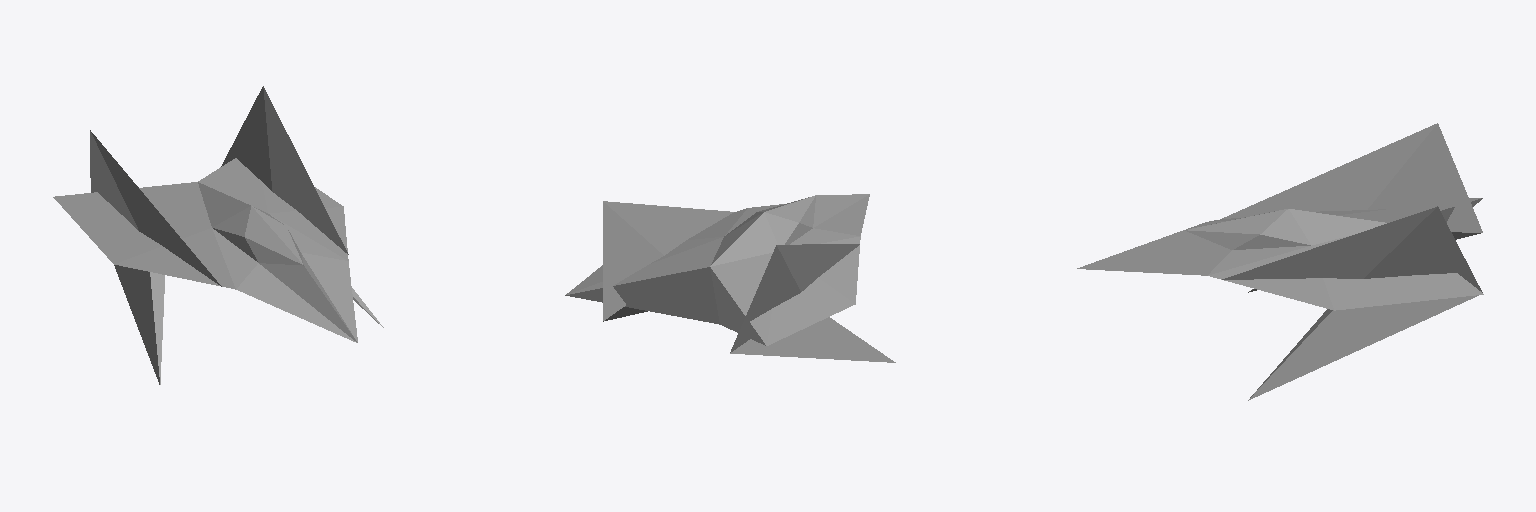
The model's file is Catspaw.obj.
3 renders of one model, left to right at view 1: azimuth 30°, elevation 25°; view 2: azimuth 150°, elevation 25°; view 3: azimuth 270°, elevation 25°, orthographic.
Visible parts, largest first — view 1: ShapeIndexedFaceSet.082; view 2: ShapeIndexedFaceSet.082; view 3: ShapeIndexedFaceSet.082.
Part boxes in pixels (left/top/right/bottom): ShapeIndexedFaceSet.082: left=53, top=86, right=383, bottom=384; ShapeIndexedFaceSet.082: left=565, top=194, right=895, bottom=362; ShapeIndexedFaceSet.082: left=1077, top=123, right=1483, bottom=400.
Size of the model in its own units: 2.94 by 2.24 by 4.52.